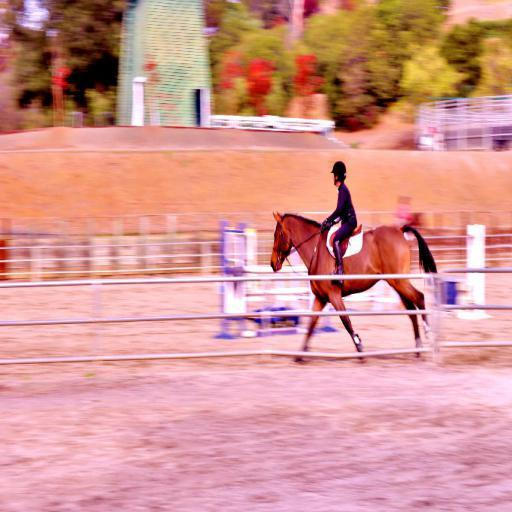horse: (266, 211, 438, 362)
